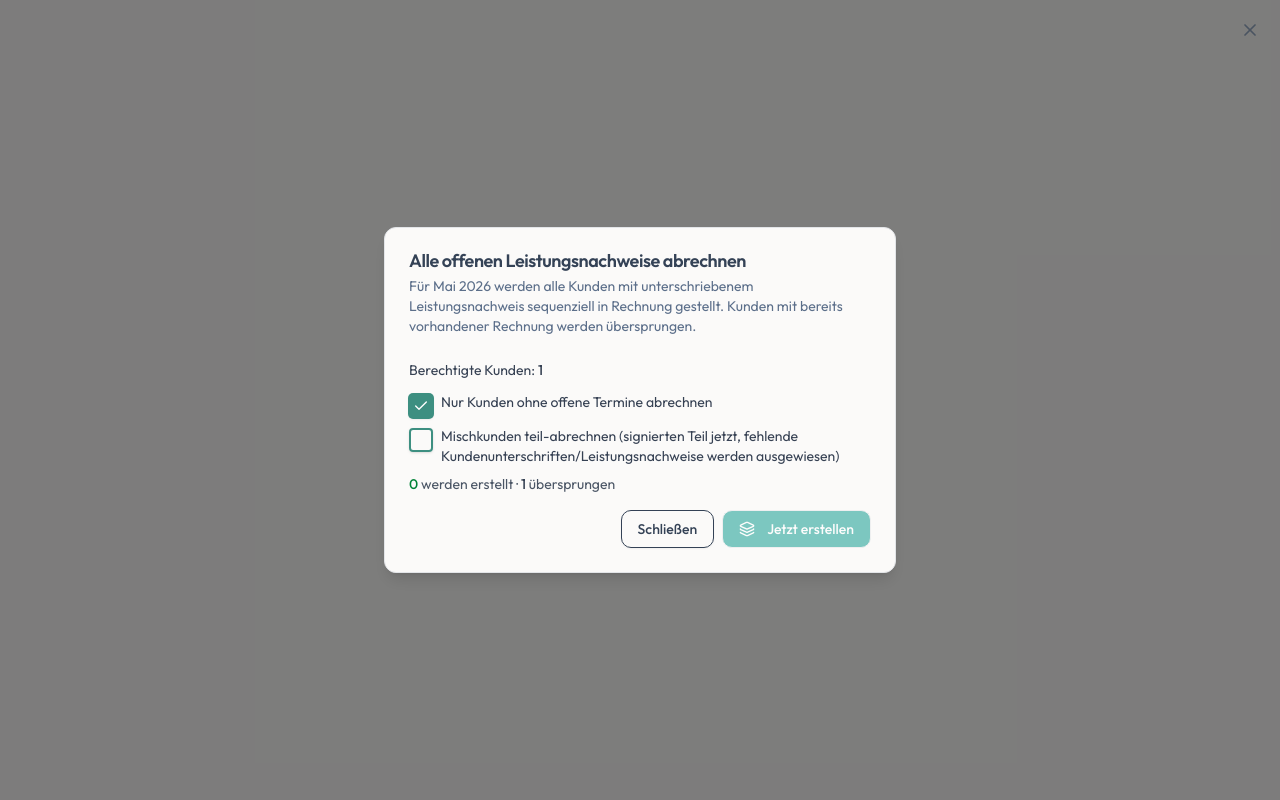
it: GenerateAllDialog — „werden erstellt“-Zähler (Task #1780/#1905) › Mischkunde zählt MIT confirmPartial als „wird erstellt“
Click the checkbox with test id "checkbox-confirm-partial-bulk": (421, 440) left=409, top=428, right=433, bottom=452
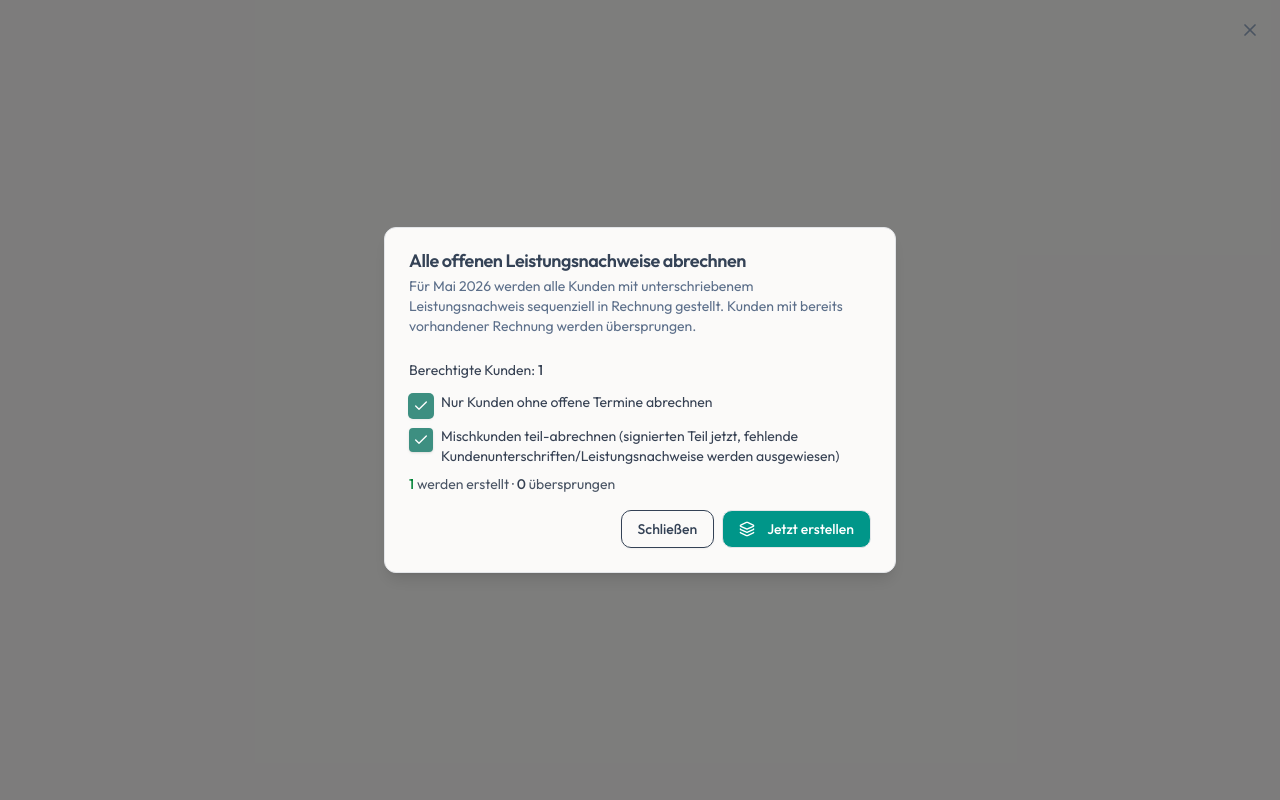
Expected: the text with test id "text-generate-all-will-create" reads "1", left=409, top=475, right=414, bottom=493
Expected: the text with test id "text-generate-all-will-skip" reads "0", left=517, top=475, right=526, bottom=493
